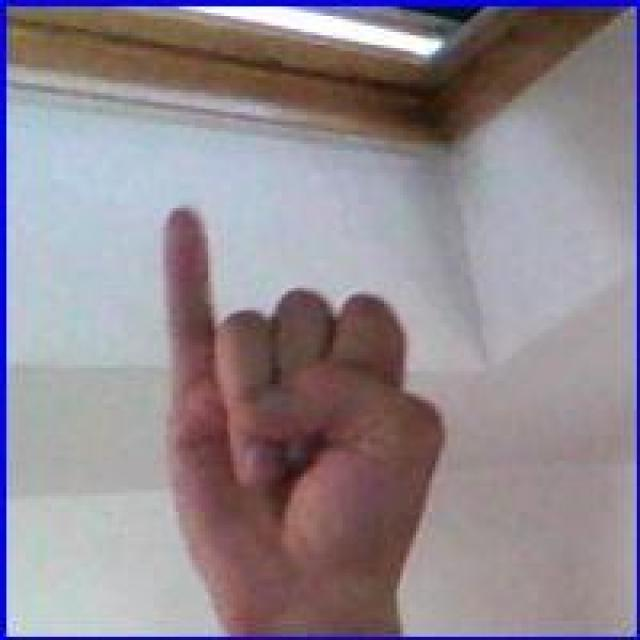I: (144, 195, 451, 595)
